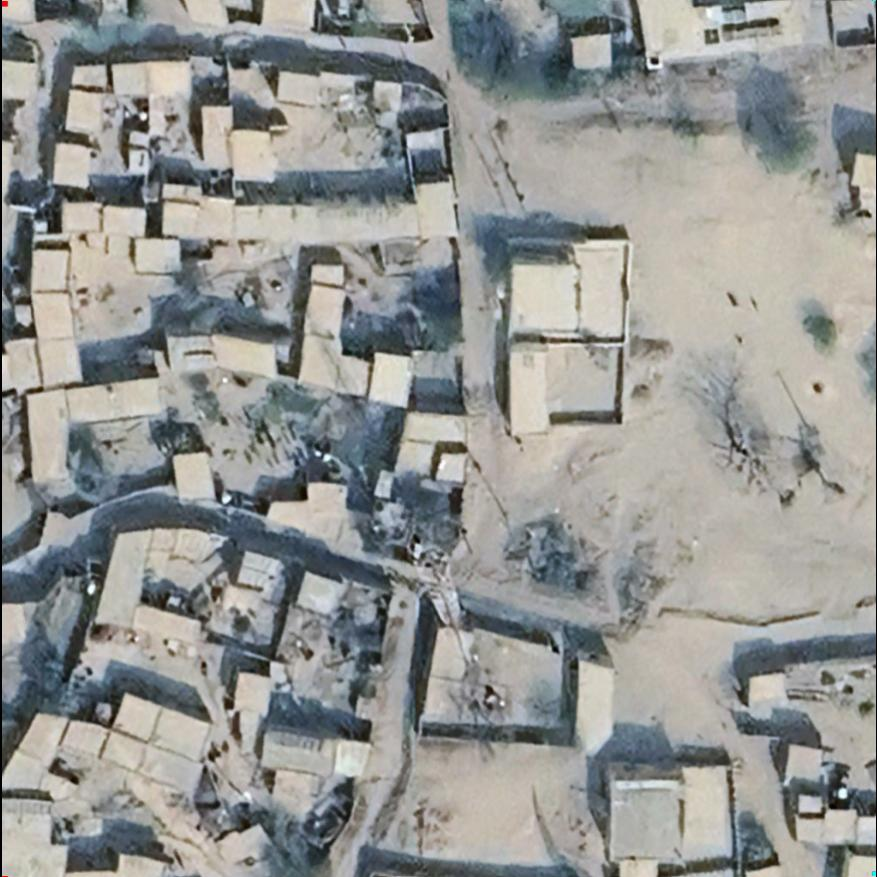Solarpanel: (262, 731, 328, 755)
